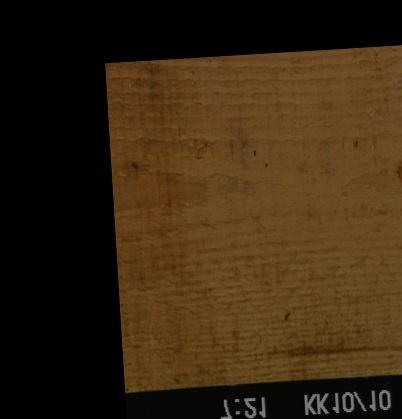small_knot: (128, 160, 140, 170)
